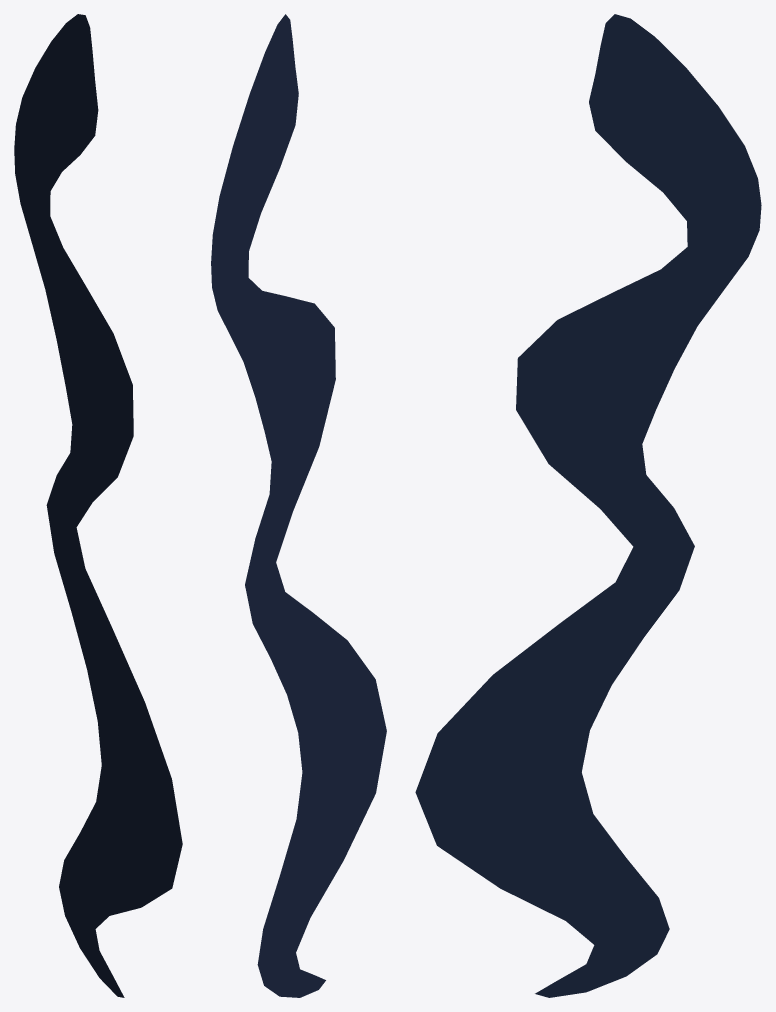
The model's file is M_Prop_TallKelp2.fbx.
3 views of the same model, side by side, from view 1: azimuth 30°, elevation 25°; view 2: azimuth 150°, elevation 25°; view 3: azimuth 270°, elevation 25° (orthographic). The views are drawn at different scales.
Visible parts, largest first — view 1: tallkelp2; view 2: tallkelp2; view 3: tallkelp2.
Boxes of the visible parts, box(x1,y1,x2,y2) form: tallkelp2: box(14, 14, 182, 997); tallkelp2: box(211, 14, 386, 997); tallkelp2: box(415, 14, 761, 997).
Size of the model in its own units: 0.000319 by 1150 by 3609.
